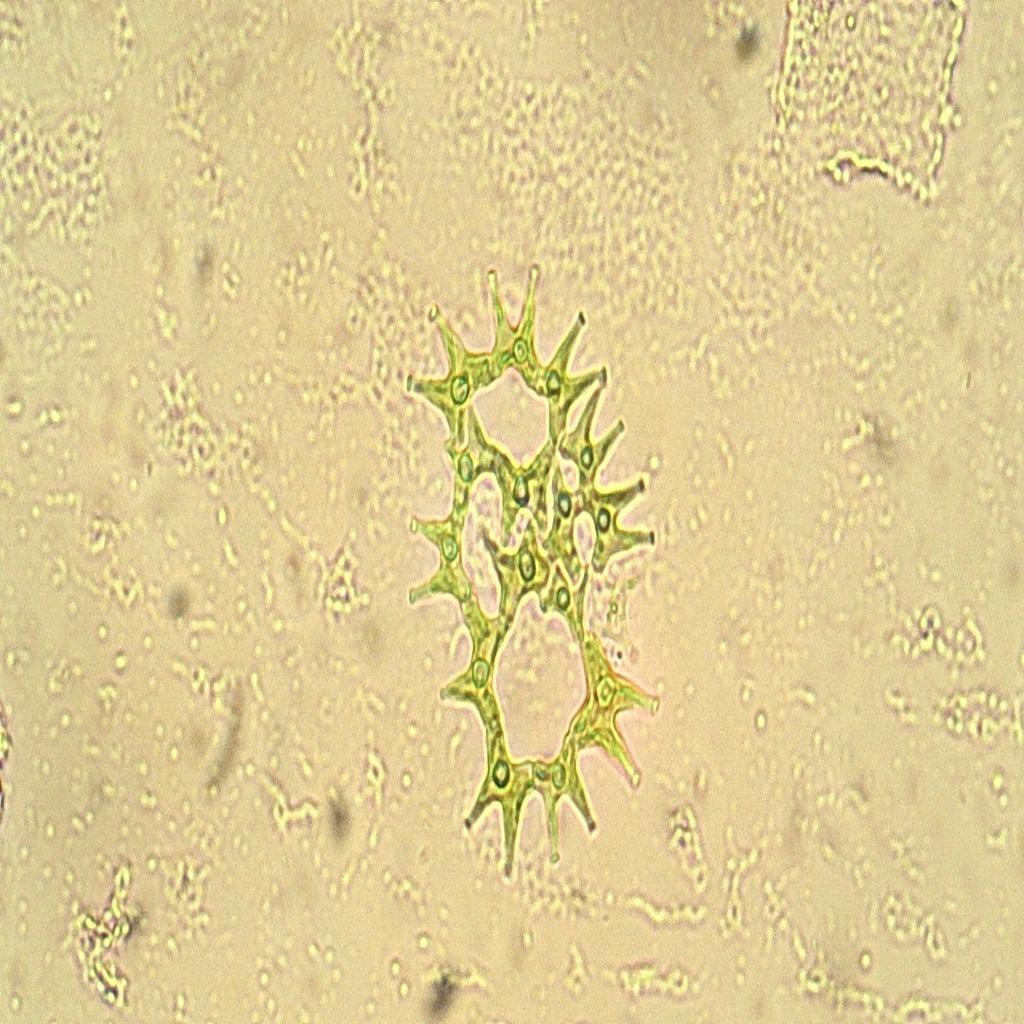Pediastrum_1TH: (402, 229, 669, 914)
